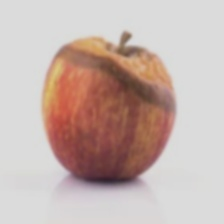apple: (47, 47, 210, 182)
